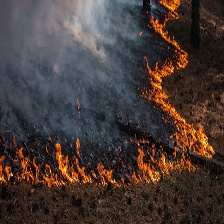fire: (146, 4, 220, 173), (3, 130, 187, 196)
smoke: (1, 1, 137, 120)
